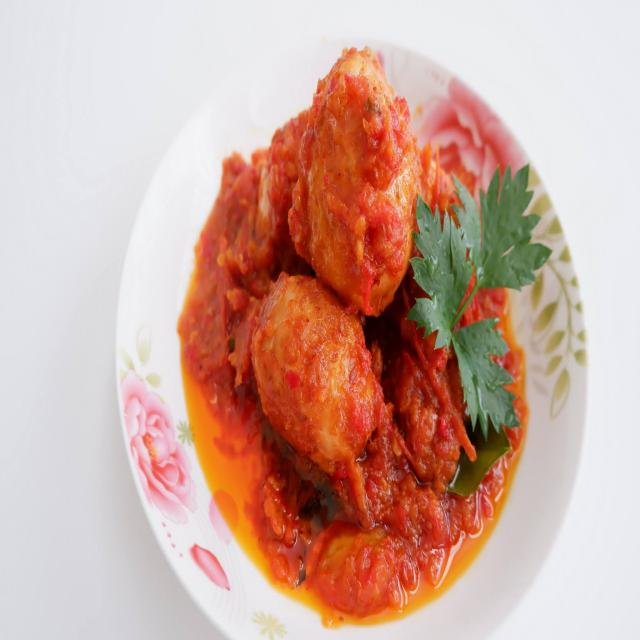telur balado: (228, 43, 416, 478)
